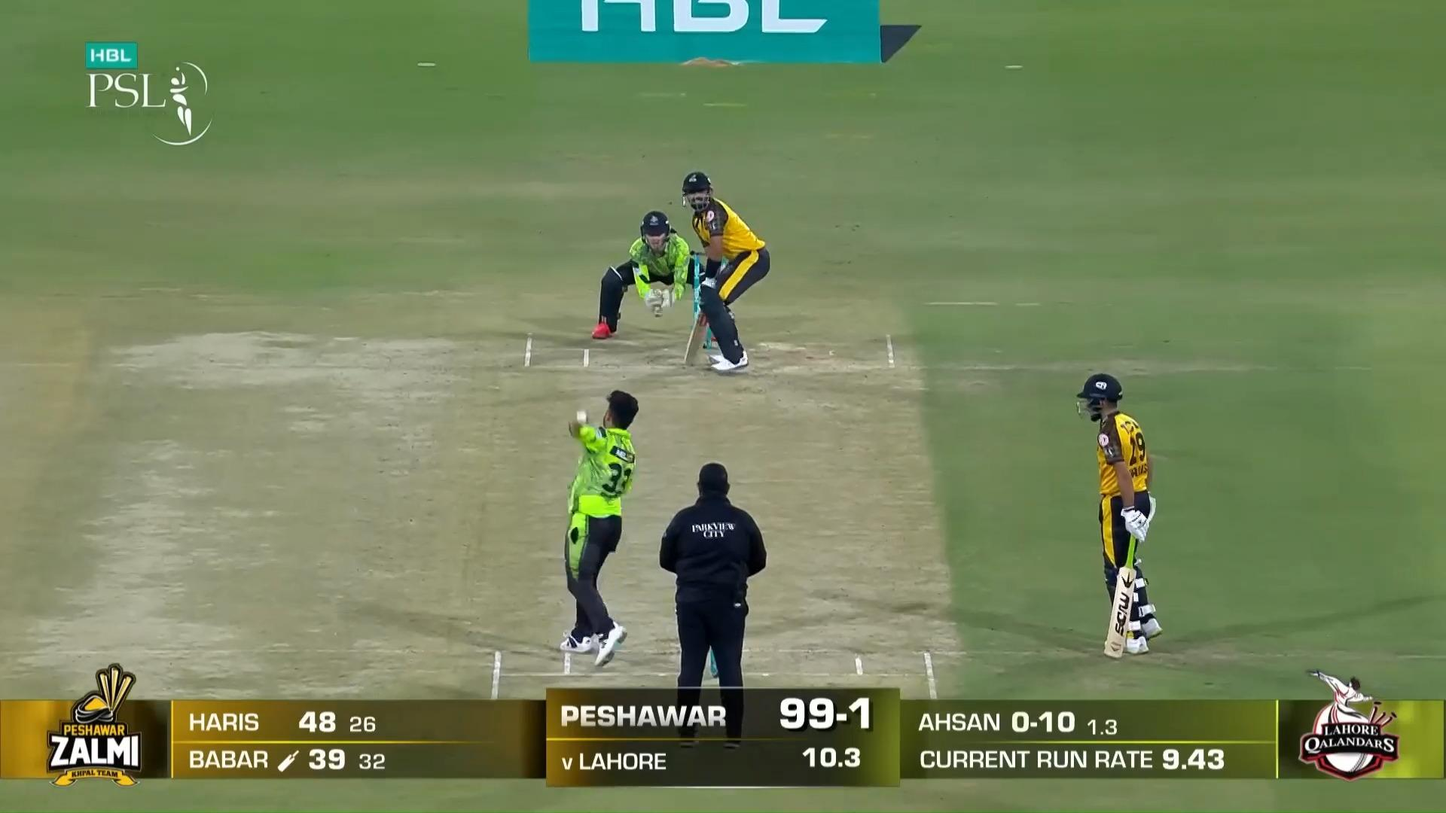batsman: (683, 171, 770, 373)
